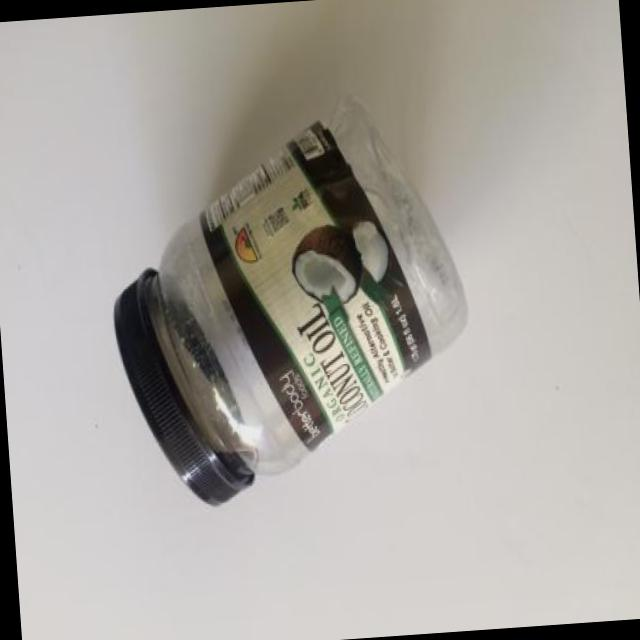Recycle: (99, 94, 481, 514)
